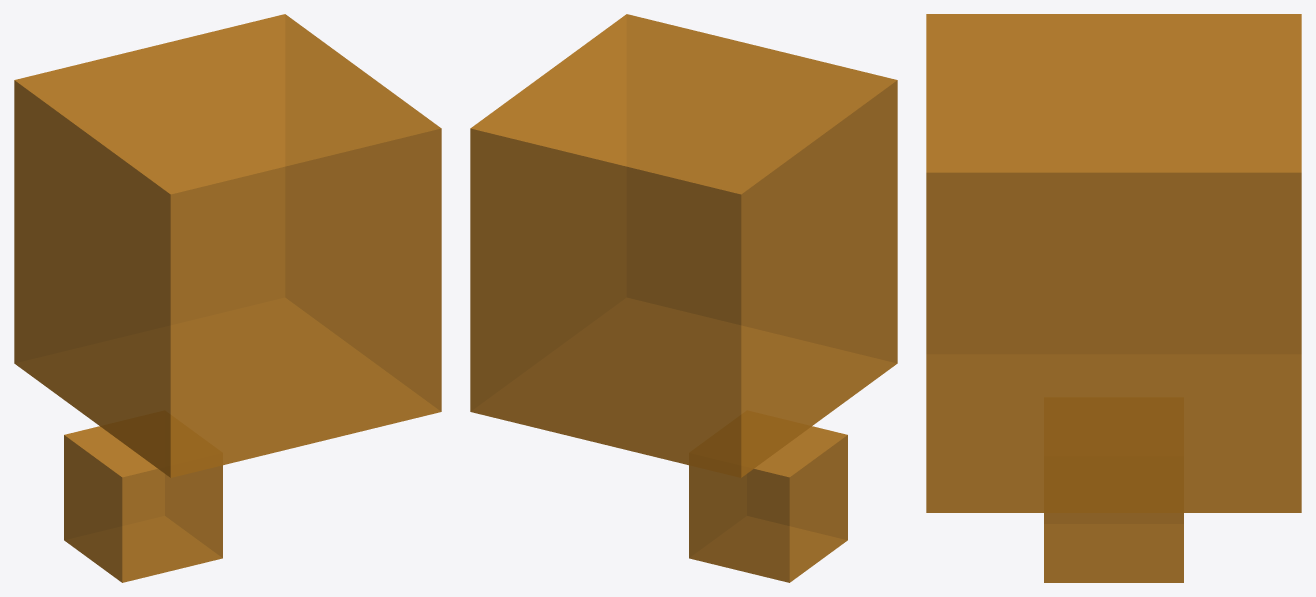
File: PRISTINEPP-001.gltf
3 renders of one model, left to right at view 1: azimuth 30°, elevation 25°; view 2: azimuth 150°, elevation 25°; view 3: azimuth 270°, elevation 25°, orthographic. The views are drawn at different scales.
Visible parts, largest first — view 1: innercube.001, innercube; view 2: innercube.001, innercube; view 3: innercube.001, innercube.
Part boxes in pixels (x1,y1,x2,y2): innercube.001: (14, 14, 441, 477); innercube: (64, 426, 222, 582); innercube.001: (470, 14, 897, 477); innercube: (689, 426, 847, 582); innercube.001: (926, 14, 1301, 512); innercube: (1044, 513, 1183, 582).
Size of the model in its own units: 0.7677 by 1.15 by 0.7677.
